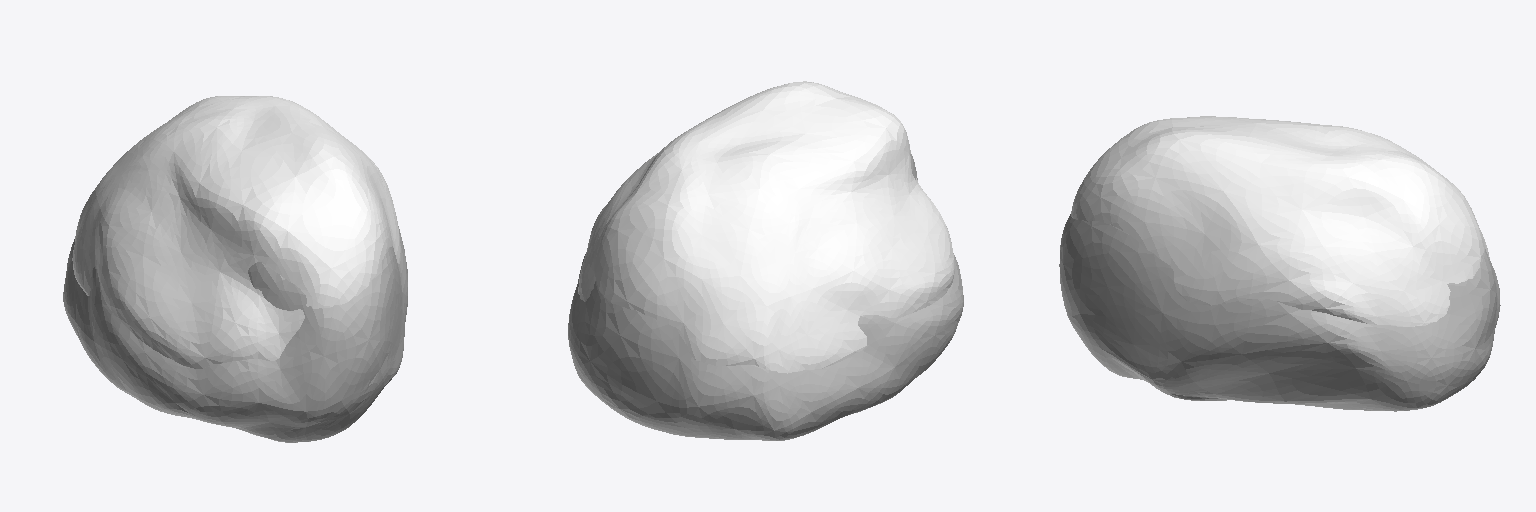
File: pebble.obj
The picture shows the model from 3 angles: view 1: azimuth 30°, elevation 25°; view 2: azimuth 150°, elevation 25°; view 3: azimuth 270°, elevation 25°; orthographic projection.
Parts seen in each view (by area): view 1: Icosphere.006_Icosphere.036; view 2: Icosphere.006_Icosphere.036; view 3: Icosphere.006_Icosphere.036.
Boxes of the visible parts, x1=… form: Icosphere.006_Icosphere.036: x1=63, y1=96, x2=407, y2=442; Icosphere.006_Icosphere.036: x1=568, y1=81, x2=963, y2=440; Icosphere.006_Icosphere.036: x1=1059, y1=116, x2=1500, y2=411.
Size of the model in its own units: 0.5722 by 0.4844 by 0.7296.